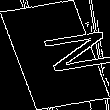N_W: (11, 30, 99, 80)
